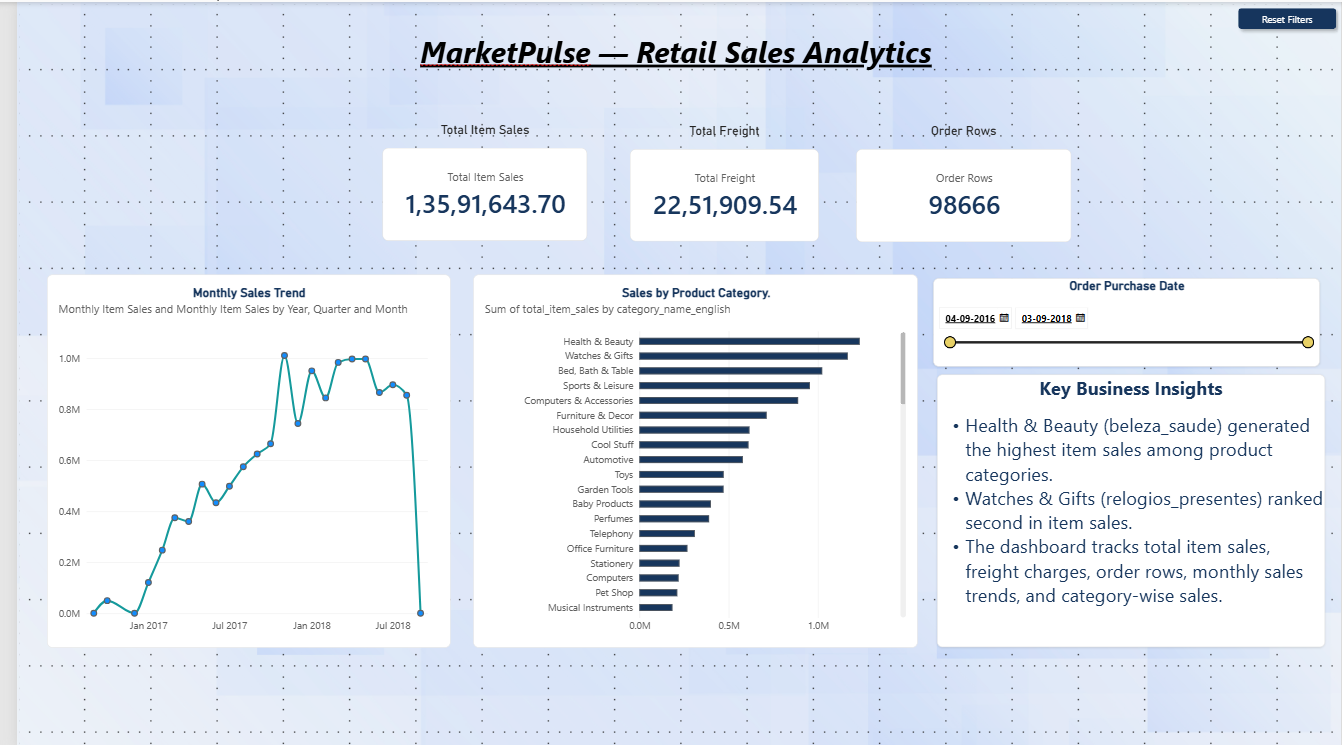

This screenshot's page, from the dashboard's own definition file:
{"tool":"powerbi","page":{"name":"Page 1","canvas":[1920,1080],"ordinal":0},"visuals":[{"type":"cardVisual","title":"Total Item Sales","fields":{"Data":["MarketPulse_Category_Sales.Total Item Sales"]},"box":[528.4,173.7,298.6,173.7],"z":0},{"type":"cardVisual","title":"Total Freight","fields":{"Data":["MarketPulse_Category_Sales.Total Freight"]},"box":[886.7,175.5,275.1,171.9],"z":1},{"type":"cardVisual","title":"Order Rows","fields":{"Data":["MarketPulse_Order_Analysis_New.Order Rows"]},"box":[1216,176,313.1,173.7],"z":2},{"type":"lineChart","title":"Monthly Sales Trend","fields":{"Category":["MarketPulse_Order_Analysis_New.order_purchase_timestamp.Variation.Date Hierarchy.Year","MarketPulse_Order_Analysis_New.order_purchase_timestamp.Variation.Date Hierarchy.Quarter","MarketPulse_Order_Analysis_New.order_purchase_timestamp.Variation.Date Hierarchy.Month"],"Y":["MarketPulse_Category_Sales.Monthly Item Sales"]},"box":[43.4,394.5,584.5,541.1],"z":3},{"type":"clusteredBarChart","title":"Sales by Product Category.","fields":{"Category":["MarketPulse_Category_Sales_English.category_name_english"],"Y":["Sum(MarketPulse_Category_Sales.total_item_sales)"]},"box":[660.5,394.5,644.2,541.1],"z":4},{"type":"slicer","title":"Order Purchase Date","fields":{"Values":["MarketPulse_Order_Analysis_New.order_purchase_timestamp"]},"box":[1328,400,560,128],"z":5},{"type":"textbox","box":[181.4,23.7,1547.5,150.8],"z":6},{"type":"textbox","box":[31,24,150,151],"z":7},{"type":"textbox","box":[1332.5,540,562.5,395],"z":9},{"type":"actionButton","box":[1760,0,160,48],"z":10}]}

Visuals, with their boxes in screenshot pixels (x1, y1, x2, y2), scaled from the page's 1920x1080 canvas onto the 1342x745 screenshot:
"Total Item Sales" cardVisual: detection(369, 120, 578, 240)
"Total Freight" cardVisual: detection(620, 121, 812, 240)
"Order Rows" cardVisual: detection(850, 121, 1069, 241)
"Monthly Sales Trend" lineChart: detection(30, 272, 439, 645)
"Sales by Product Category." clusteredBarChart: detection(462, 272, 912, 645)
"Order Purchase Date" slicer: detection(928, 276, 1320, 364)
textbox: detection(127, 16, 1208, 120)
textbox: detection(22, 17, 127, 121)
textbox: detection(931, 372, 1325, 645)
actionButton: detection(1230, 0, 1341, 33)
